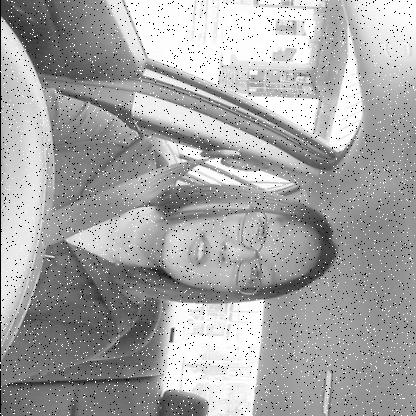seatbelt: (23, 148, 358, 318)
